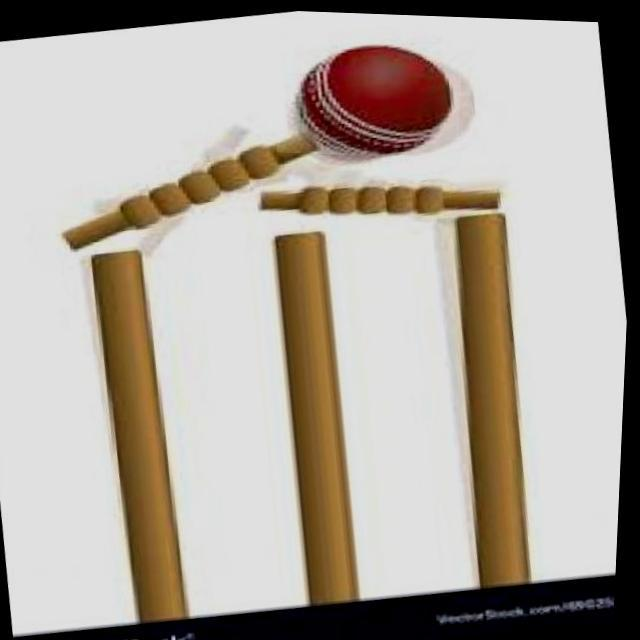-: (278, 26, 463, 156)
